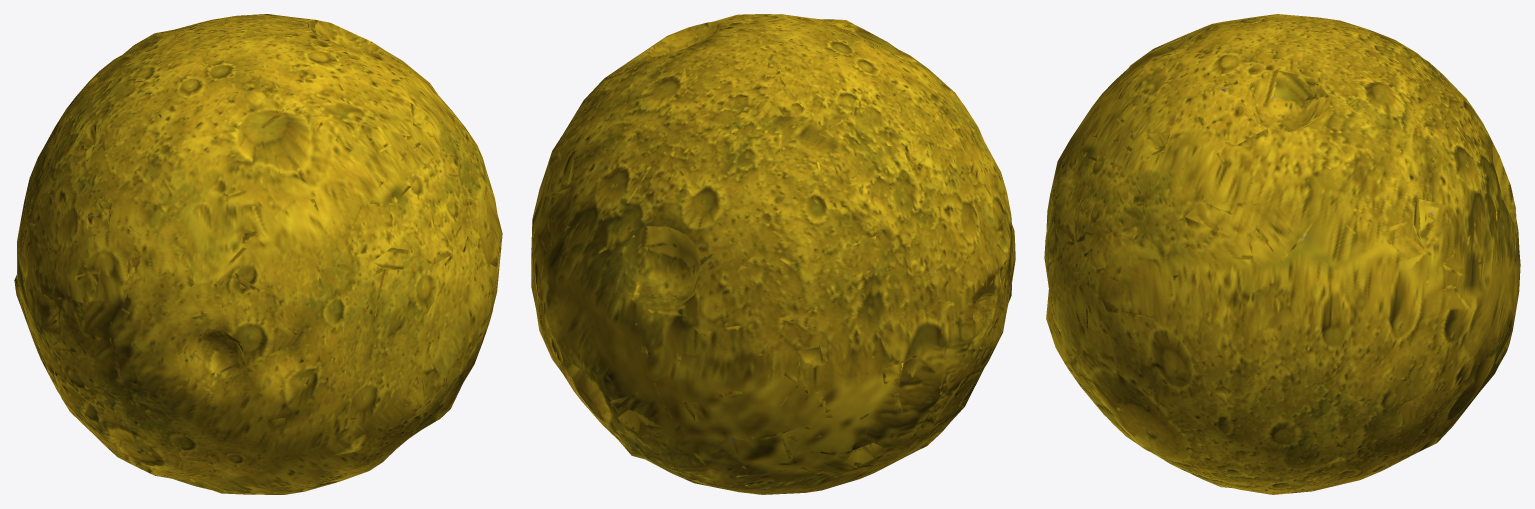
The model's file is moon_03.glb.
3 renders of one model, left to right at view 1: azimuth 30°, elevation 25°; view 2: azimuth 150°, elevation 25°; view 3: azimuth 270°, elevation 25°, orthographic.
Parts seen in each view (by area): view 1: Mesh_0; view 2: Mesh_0; view 3: Mesh_0.
Boxes of the visible parts, bbox=[...] form: Mesh_0: bbox=[14, 14, 502, 494]; Mesh_0: bbox=[531, 14, 1015, 494]; Mesh_0: bbox=[1044, 14, 1520, 494].
Bounding box in the file's own units: 1.89 × 1.9 × 1.87.
1 material, 1 textured.
